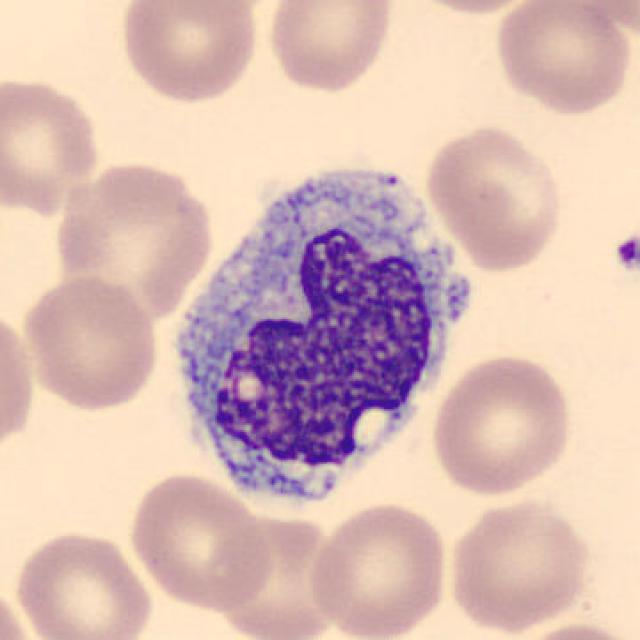Monocyte: (157, 141, 486, 520)
Platelets: (610, 229, 640, 279)
RBC: (51, 157, 217, 321), (421, 120, 567, 273), (428, 349, 576, 499), (442, 492, 596, 635), (125, 469, 278, 612), (304, 499, 452, 640), (18, 272, 162, 412), (10, 525, 156, 640), (490, 0, 634, 116), (116, 0, 263, 106), (0, 70, 105, 218), (262, 0, 398, 95), (0, 299, 37, 463), (554, 0, 640, 40), (505, 619, 636, 640), (395, 0, 549, 16), (0, 580, 39, 640), (167, 0, 293, 16)
